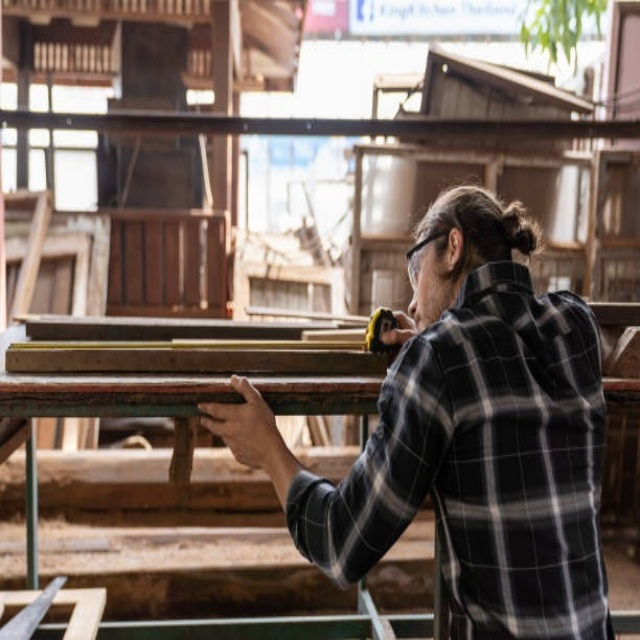Gafas: (406, 228, 450, 291)
Sin_guantes: (195, 375, 279, 474)
Sin_mascara: (405, 293, 427, 334)
